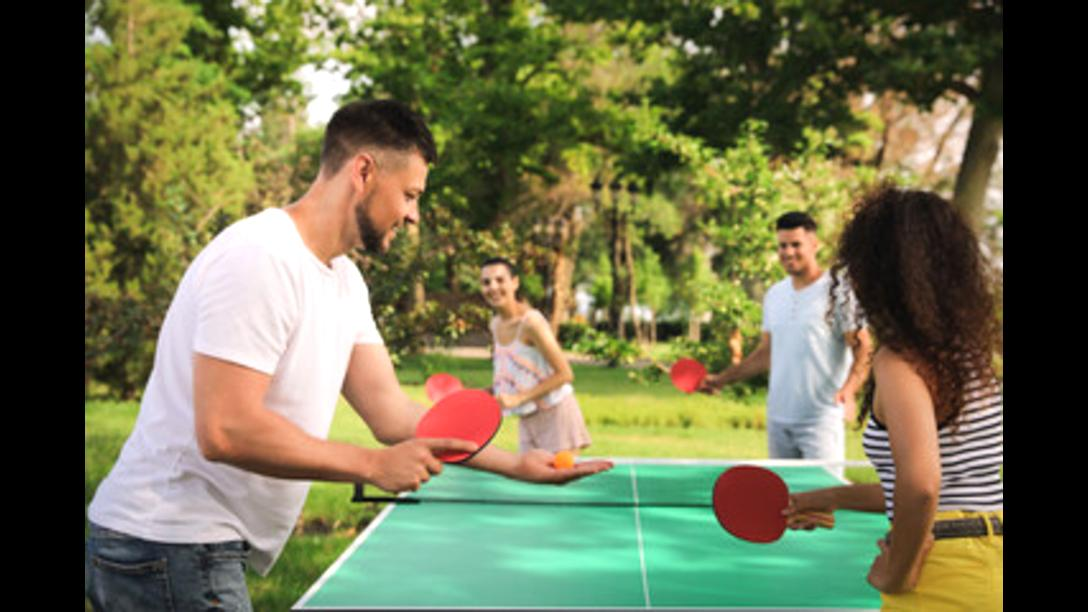Table-Tennis-Ball: (554, 449, 574, 469)
